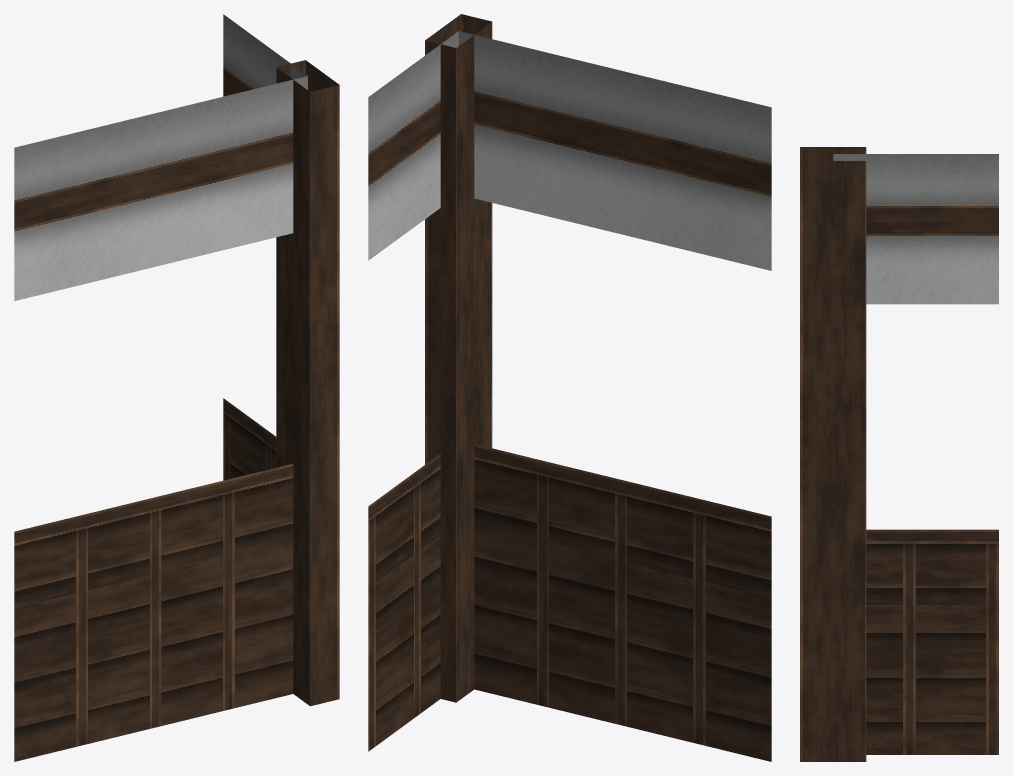
The model's file is house_big_window_wall_corner_2.glb.
The picture shows the model from 3 angles, left to right: view 1: azimuth 30°, elevation 25°; view 2: azimuth 150°, elevation 25°; view 3: azimuth 270°, elevation 25°; orthographic projection. The views are drawn at different scales.
Parts seen in each view (by area): view 1: house_big_window_wall_corner_2; view 2: house_big_window_wall_corner_2; view 3: house_big_window_wall_corner_2.
Part boxes in pixels (x1,y1,x2,y2): house_big_window_wall_corner_2: (14, 14, 339, 761); house_big_window_wall_corner_2: (368, 14, 771, 761); house_big_window_wall_corner_2: (800, 147, 998, 761).
Bounding box in the file's own units: 2.1 × 4 × 1.2.
Materials: 2 (2 with a texture image).
